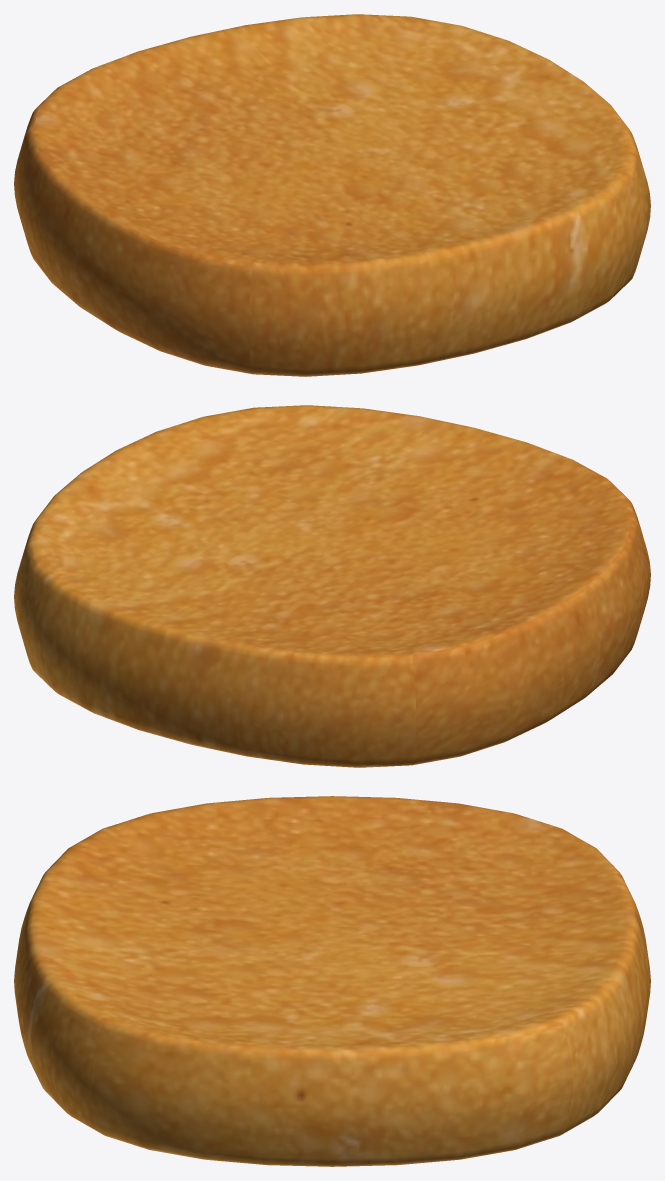
The model's file is bottombun.obj.
The picture shows the model from 3 angles, top to bottom: view 1: azimuth 30°, elevation 25°; view 2: azimuth 150°, elevation 25°; view 3: azimuth 270°, elevation 25°; orthographic projection. The views are drawn at different scales.
Parts seen in each view (by area): view 1: pain; view 2: pain; view 3: pain.
Part boxes in pixels (<box>): pain: <box>14,14,650,376</box>; pain: <box>14,405,650,767</box>; pain: <box>14,796,650,1166</box>.
Bounding box in the file's own units: 2.44 × 0.5211 × 2.43.
1 material, 1 textured.
